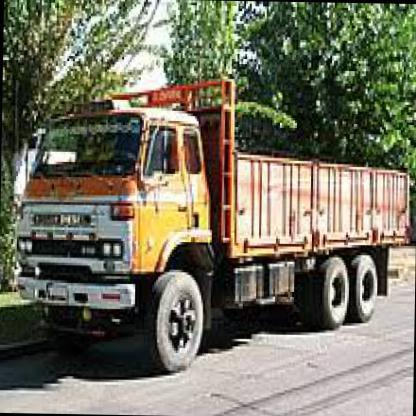truck: (11, 101, 222, 379)
